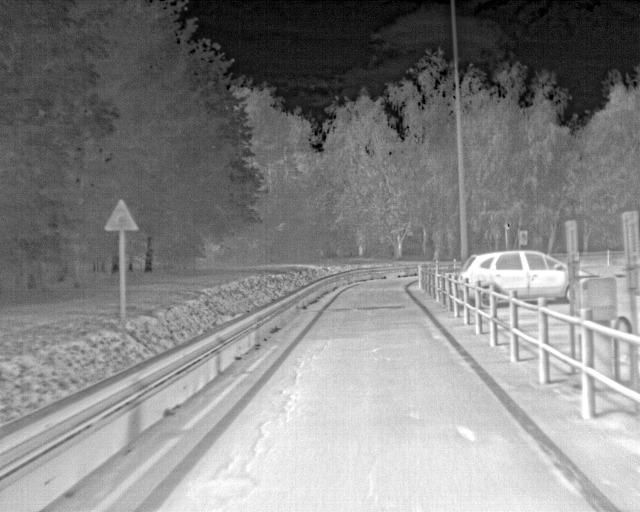car: (459, 250, 594, 304)
light: (519, 230, 528, 247)
sign: (103, 199, 139, 231)
